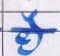ai_matra: (21, 10, 43, 28)
